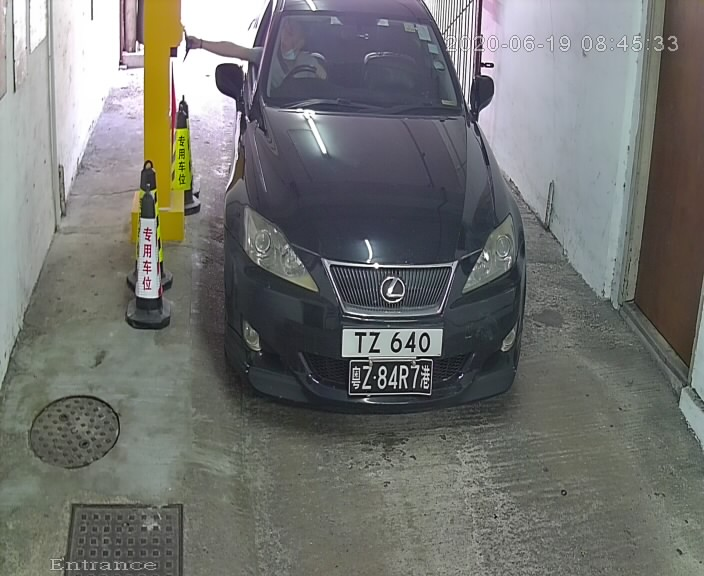bottom_left_lp: (340, 352, 348, 360)
bottom_left_radiator: (341, 304, 351, 313)
bottom_left_windshield: (258, 94, 276, 107)
bottom_right_lp: (436, 349, 443, 358)
bottom_right_radiator: (433, 306, 442, 314)
bottom_right_windshield: (450, 103, 466, 120)
brand: (376, 271, 409, 304)
left_headlight: (237, 202, 319, 295)
right_headlight: (462, 212, 519, 294)
top_left_lp: (340, 325, 346, 335)
top_left_radiator: (322, 254, 338, 271)
top_left_windshield: (275, 7, 290, 19)
top_right_lp: (438, 325, 445, 338)
top_right_radiator: (449, 256, 459, 273)
top_right_windshield: (422, 19, 436, 34)
